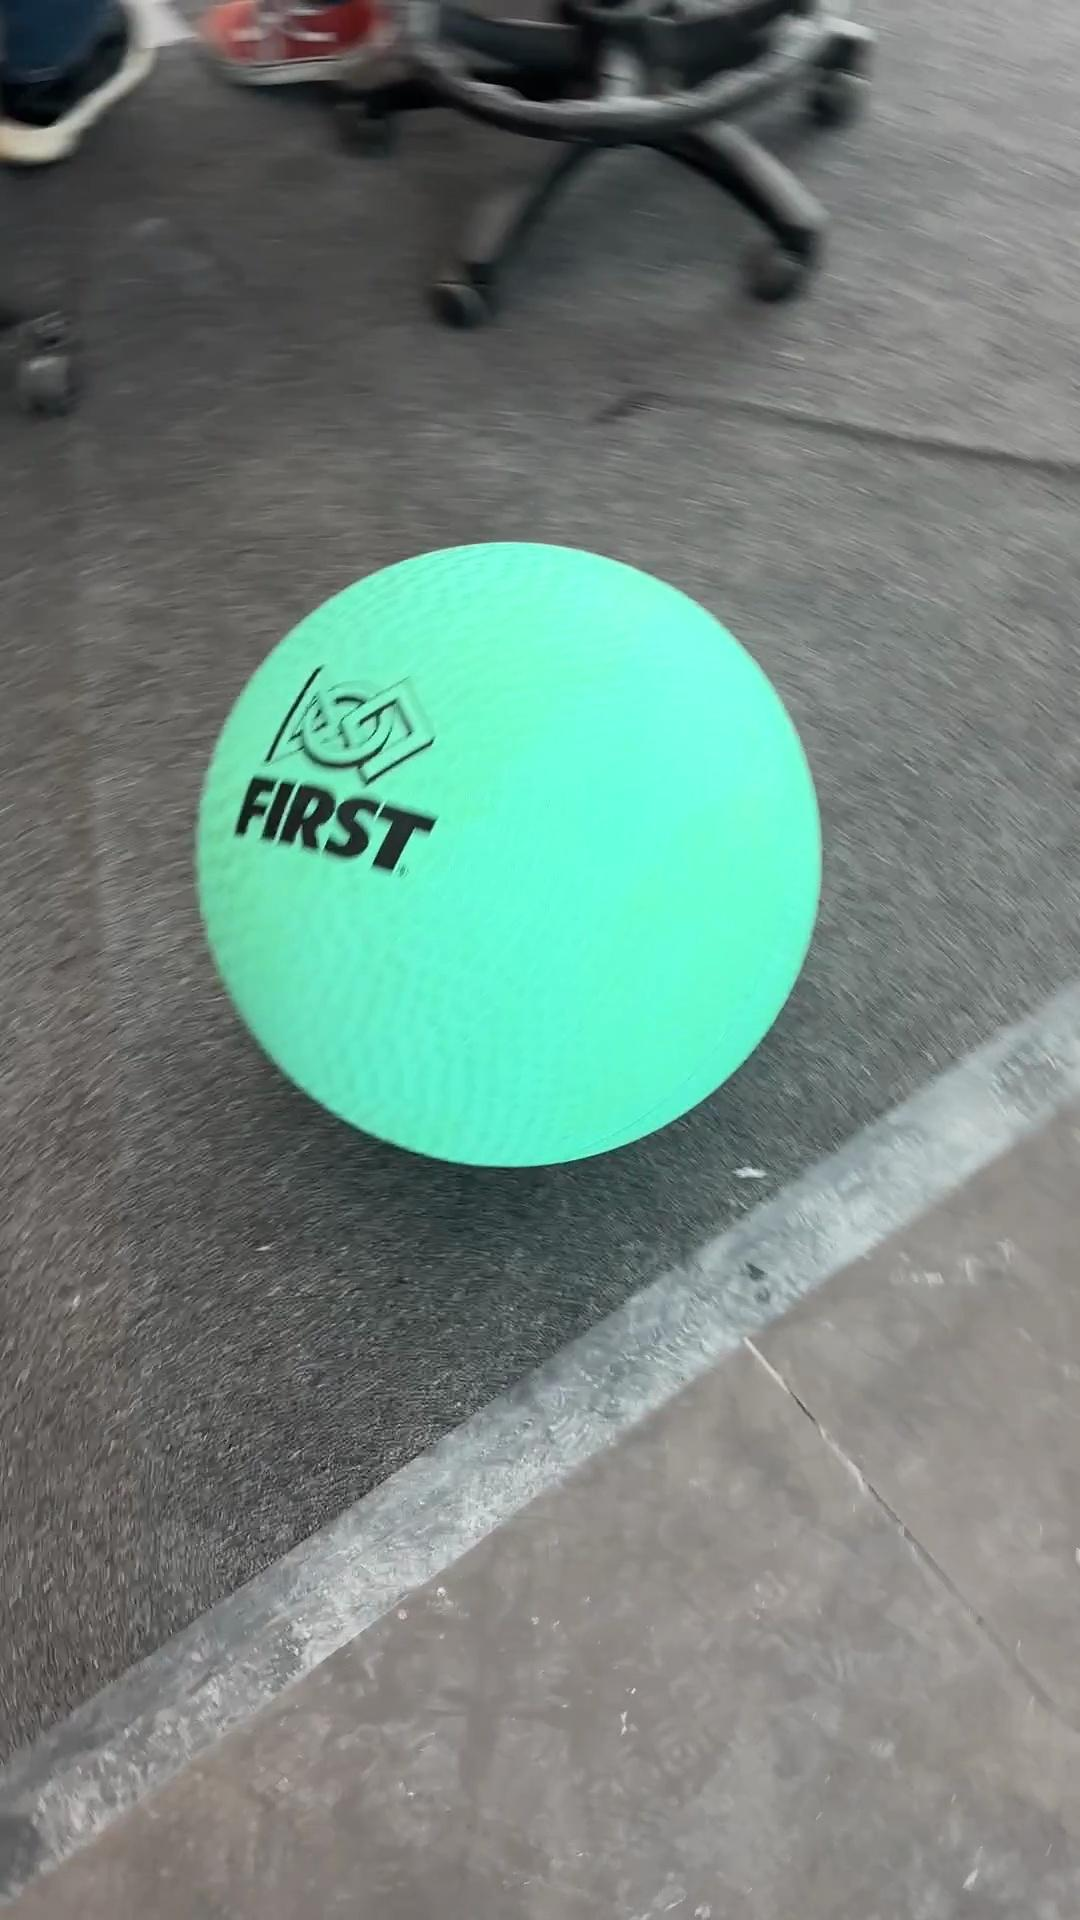ALGAE: (191, 535, 825, 1171)
